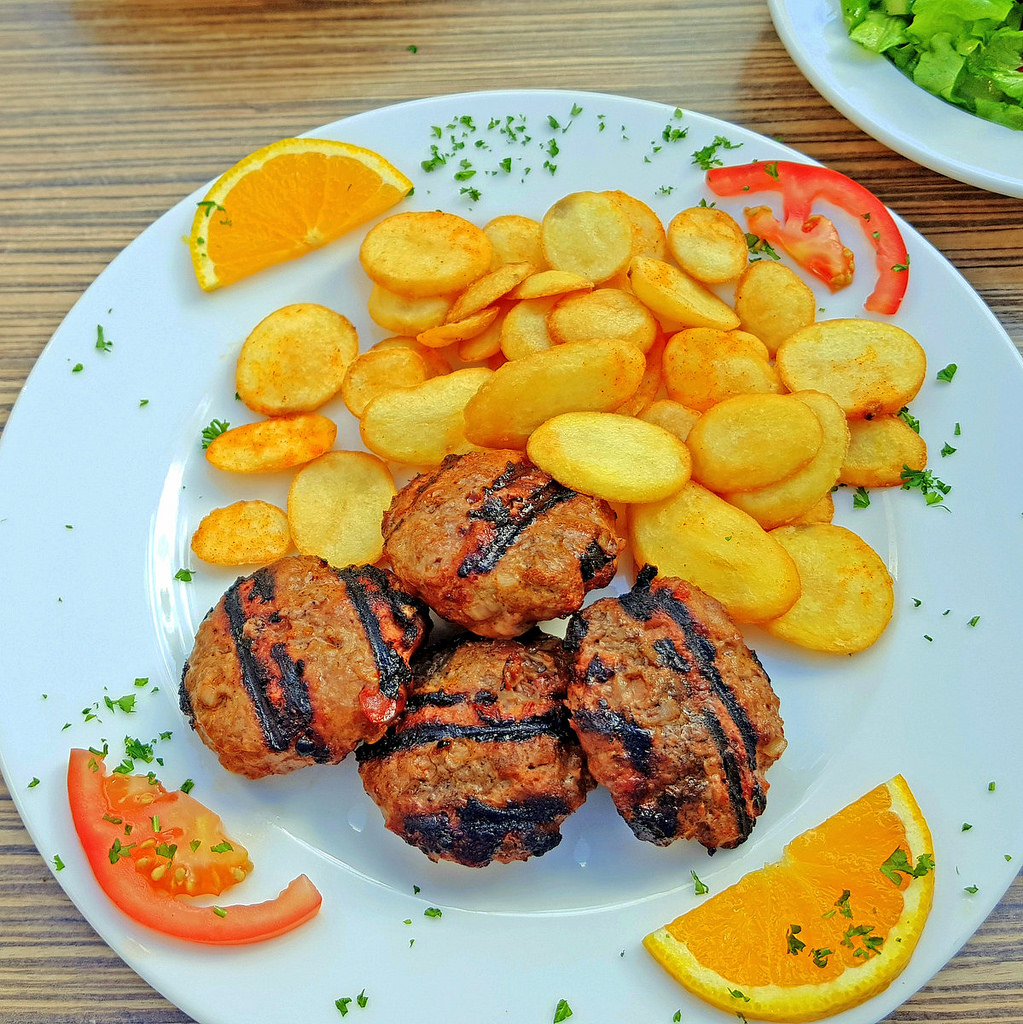boiled potatoes: (419, 230, 819, 466)
meatballs: (217, 566, 765, 840)
